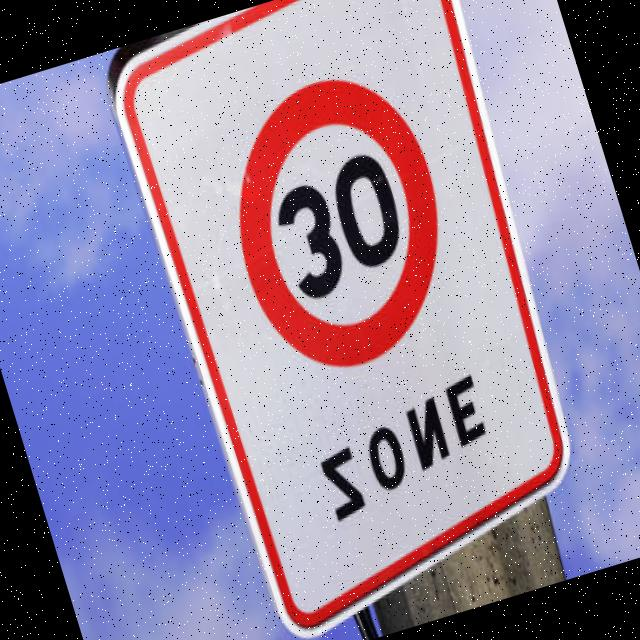speed_limit_30: (192, 46, 486, 397)
